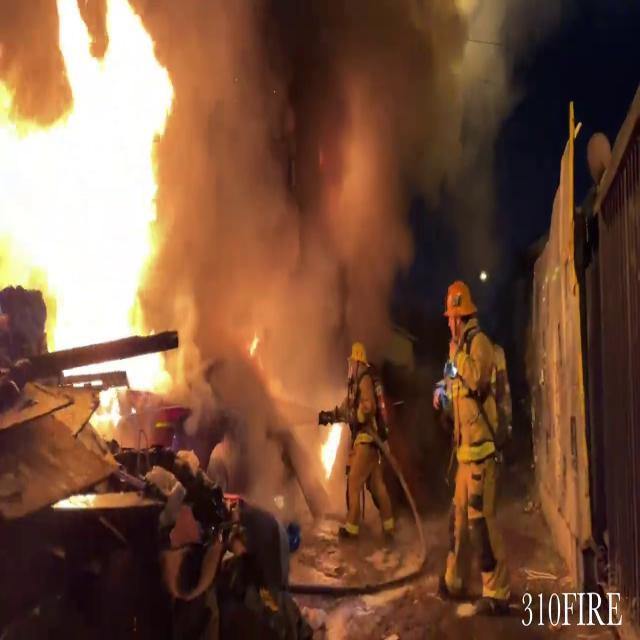Fire: (0, 0, 196, 354), (312, 410, 346, 480)
Smoke: (183, 0, 519, 380)
